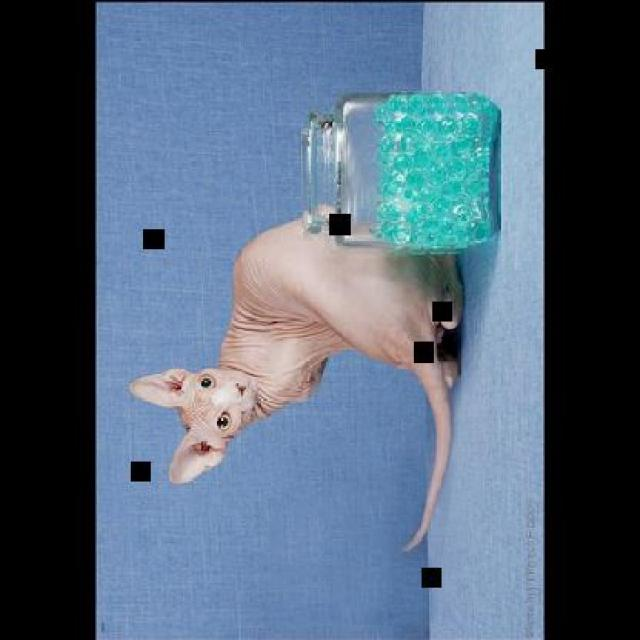unauthorized: (126, 214, 463, 552)
